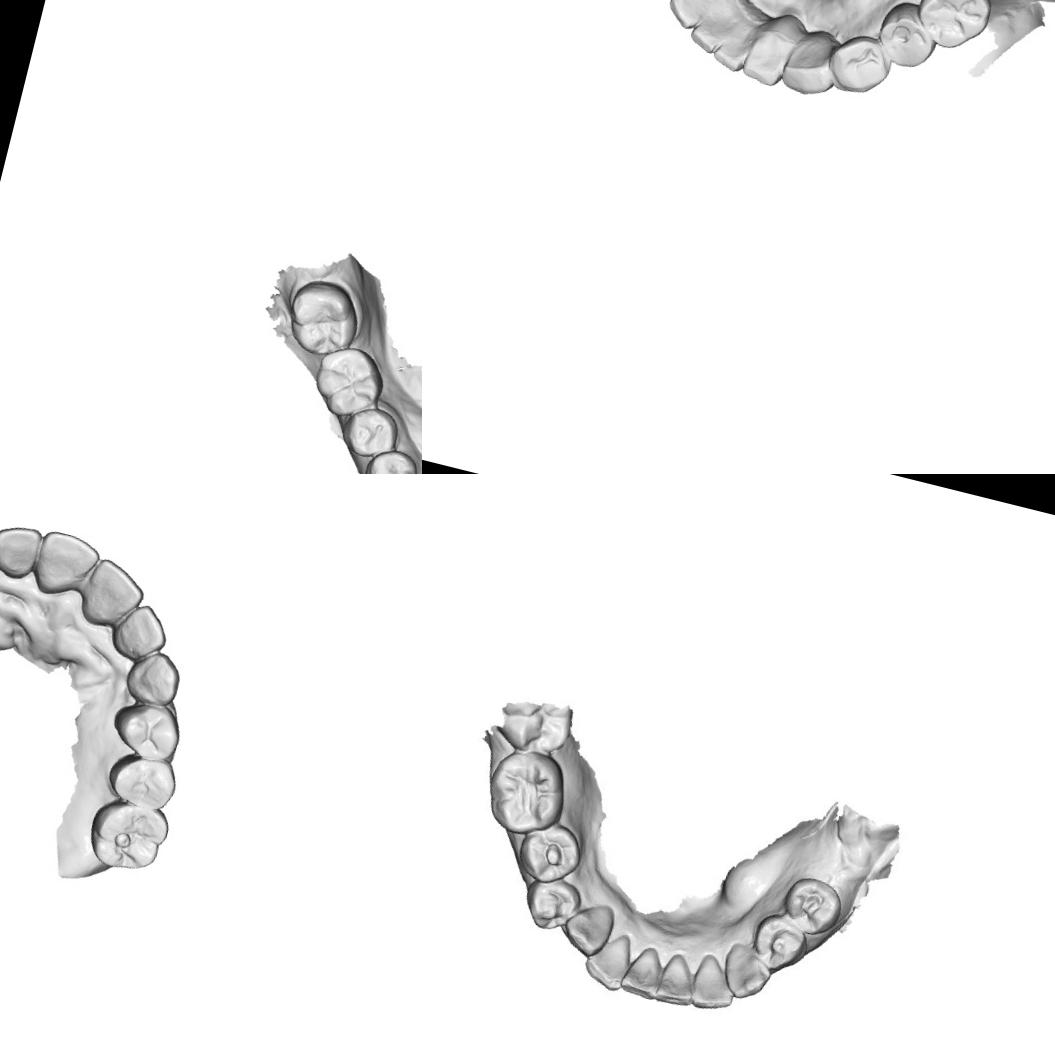canine: (777, 22, 846, 101), (555, 890, 620, 964), (120, 644, 186, 710), (718, 942, 773, 1005)
incisor: (75, 553, 150, 636), (27, 526, 103, 604), (105, 596, 174, 666), (582, 929, 636, 991), (690, 956, 741, 1016), (620, 940, 668, 1000), (0, 518, 44, 583), (652, 951, 698, 1012), (739, 39, 792, 89), (709, 24, 753, 74), (686, 10, 730, 56), (662, 0, 716, 34)
molar: (279, 270, 370, 364), (480, 746, 571, 840), (80, 794, 173, 880), (305, 338, 391, 426), (908, 0, 998, 57)
premolar: (108, 695, 186, 766), (101, 748, 182, 815), (822, 27, 896, 100), (871, 0, 944, 73), (744, 906, 815, 975), (780, 868, 850, 937), (338, 400, 404, 466), (522, 824, 580, 882), (523, 876, 578, 933), (357, 441, 422, 474)
